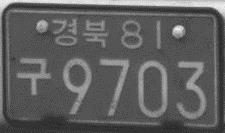0: (134, 59, 168, 119)
1: (153, 18, 164, 52)
3: (176, 59, 207, 120)
7: (96, 56, 132, 120)
8: (119, 18, 143, 49)
9: (60, 56, 94, 116)
경북_O: (51, 16, 109, 49)
구: (13, 55, 53, 98)
